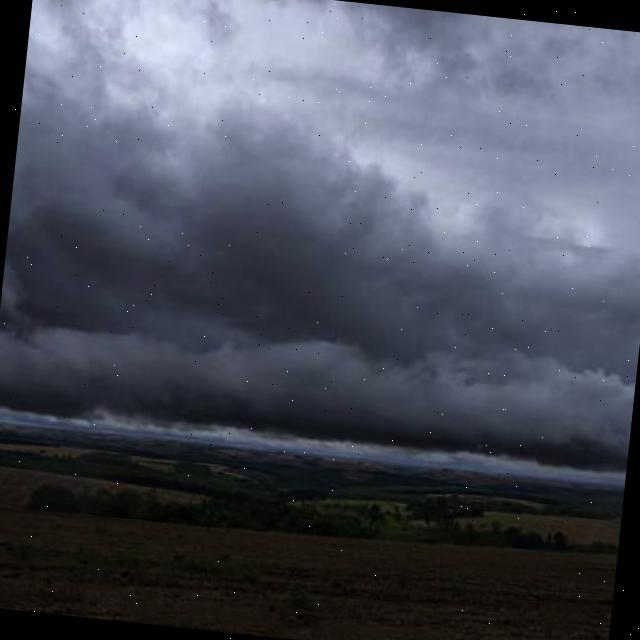Ns: (1, 42, 640, 483)
